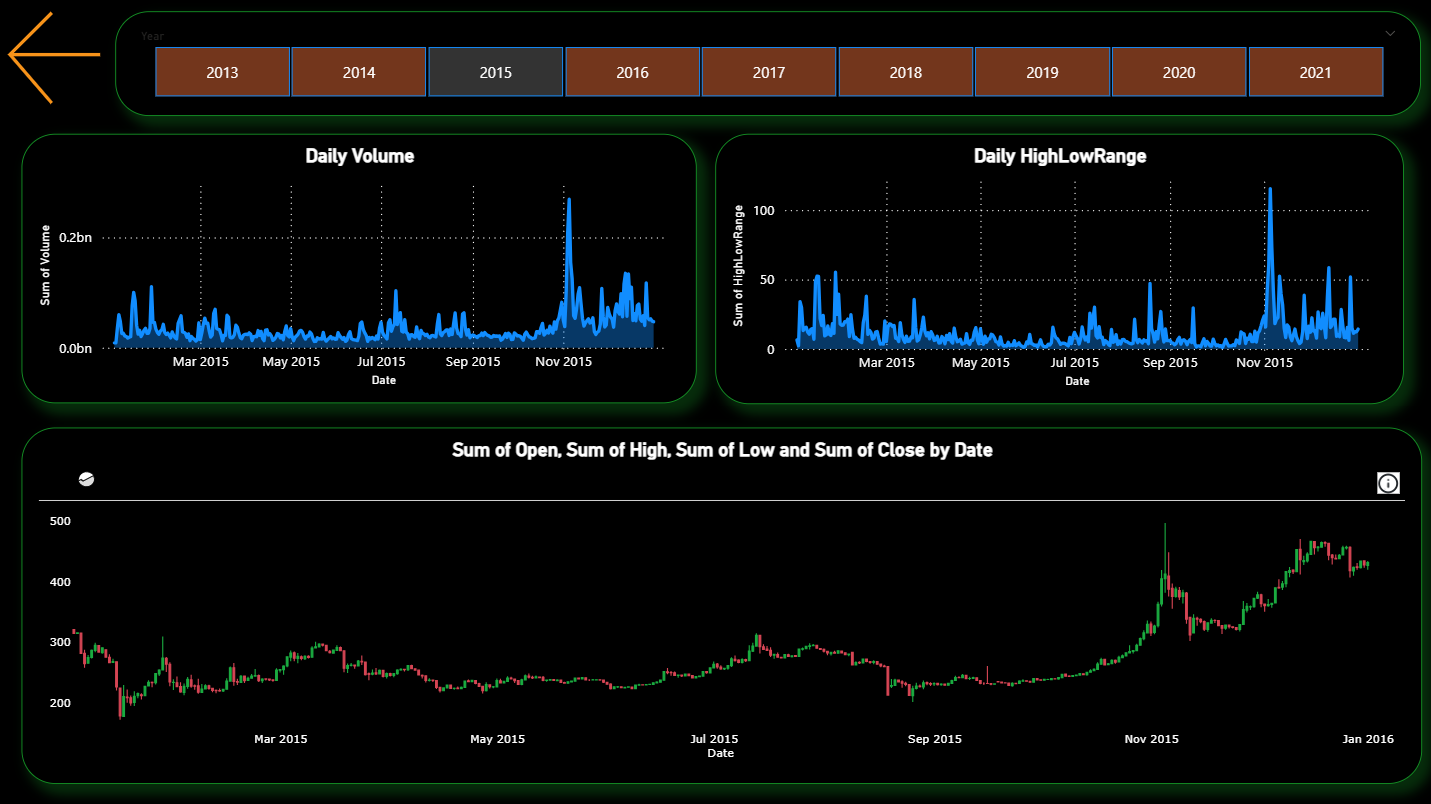

The page's visual inventory and layout, read from the dashboard file:
{"tool":"powerbi","page":{"name":"trends analysis","canvas":[1280,720],"ordinal":1},"visuals":[{"type":"slicer","fields":{"Values":["CryptoDataSet.Year"]},"box":[104.3,9.6,1166.4,93.3],"z":1000},{"type":"actionButton","box":[0,0,100.2,102.9],"z":2000},{"type":"areaChart","title":"Daily  Volume ","fields":{"Category":["CryptoDataSet.Date"],"Y":["Sum(CryptoDataSet.Volume)"]},"box":[19.8,119.8,603.5,240.7],"z":3000},{"type":"areaChart","title":"Daily  HighLowRange ","fields":{"Category":["CryptoDataSet.Date"],"Y":["Sum(CryptoDataSet.HighLowRange)"]},"box":[639.5,119.8,615.1,241.9],"z":4000},{"type":"candlestick95C27C147643B5E840B1D29AC39783F7","fields":{"col_0":["CryptoDataSet.Date"],"col_1":["Sum(CryptoDataSet.Open)"],"col_2":["Sum(CryptoDataSet.High)"],"col_3":["Sum(CryptoDataSet.Low)"],"col_4":["Sum(CryptoDataSet.Close)"]},"box":[19.8,381.4,1251.2,318.6],"z":5000}]}

Visuals, with their boxes in screenshot pixels (x1, y1, x2, y2), scaled from the page's 1280x720 canvas onto the 1431x804 screenshot:
slicer - CryptoDataSet.Year: BBox(117, 11, 1421, 115)
actionButton: BBox(0, 0, 112, 115)
"Daily  Volume " areaChart: BBox(22, 134, 697, 403)
"Daily  HighLowRange " areaChart: BBox(715, 134, 1403, 404)
candlestick95C27C147643B5E840B1D29AC39783F7 - CryptoDataSet.Date x Sum(CryptoDataSet.Open): BBox(22, 426, 1421, 782)
